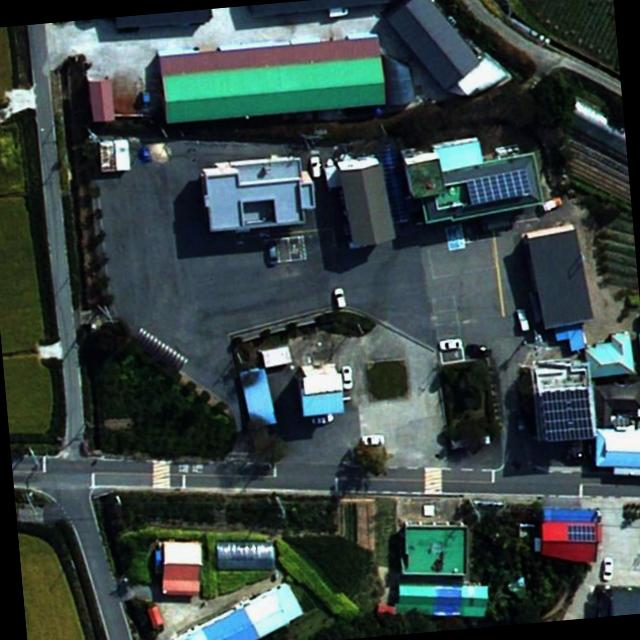solar: (539, 387, 594, 443), (464, 168, 532, 207), (564, 522, 598, 544)
